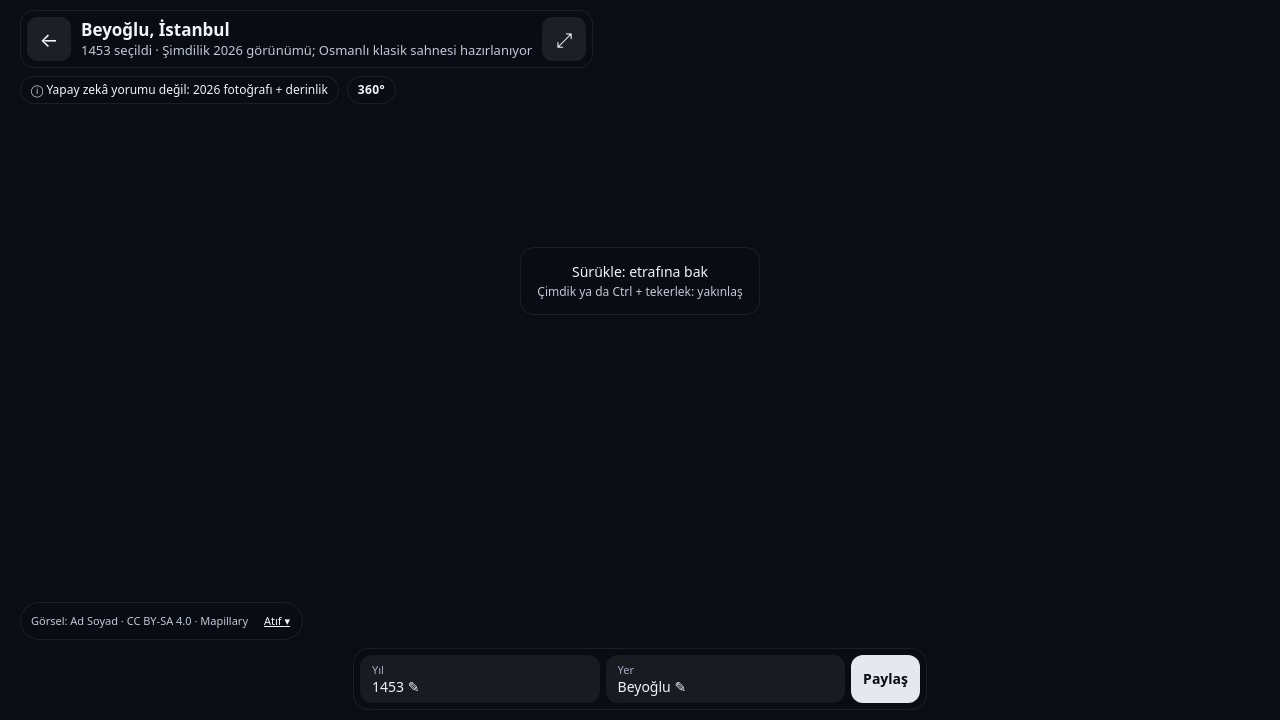
Test case: paylaş › Web Share başka bir hatayla düşerse panoya kopyalar
This screenshot has width=1280, height=720.
Click the button "Paylaş". click: [886, 679]
box: x1=851 y1=655 x2=920 y2=703
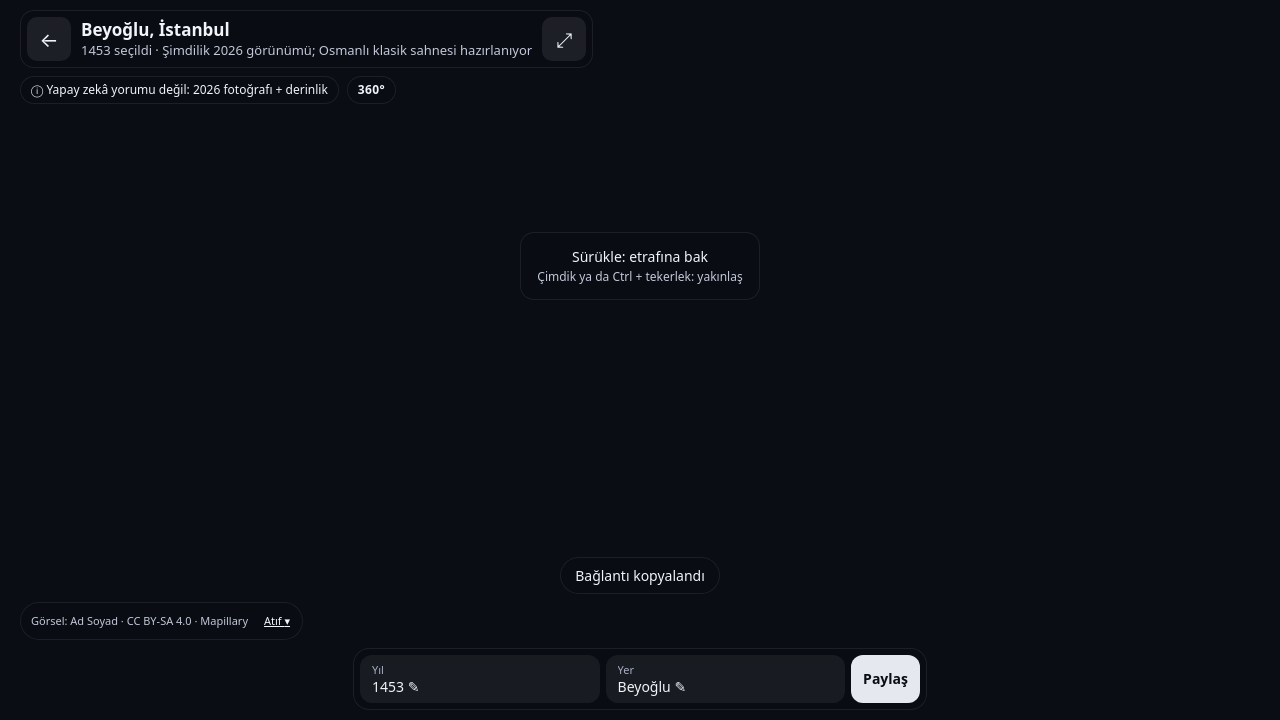
Now the message reads "Bağlantı kopyalandı", box x1=575 y1=566 x2=705 y2=585
